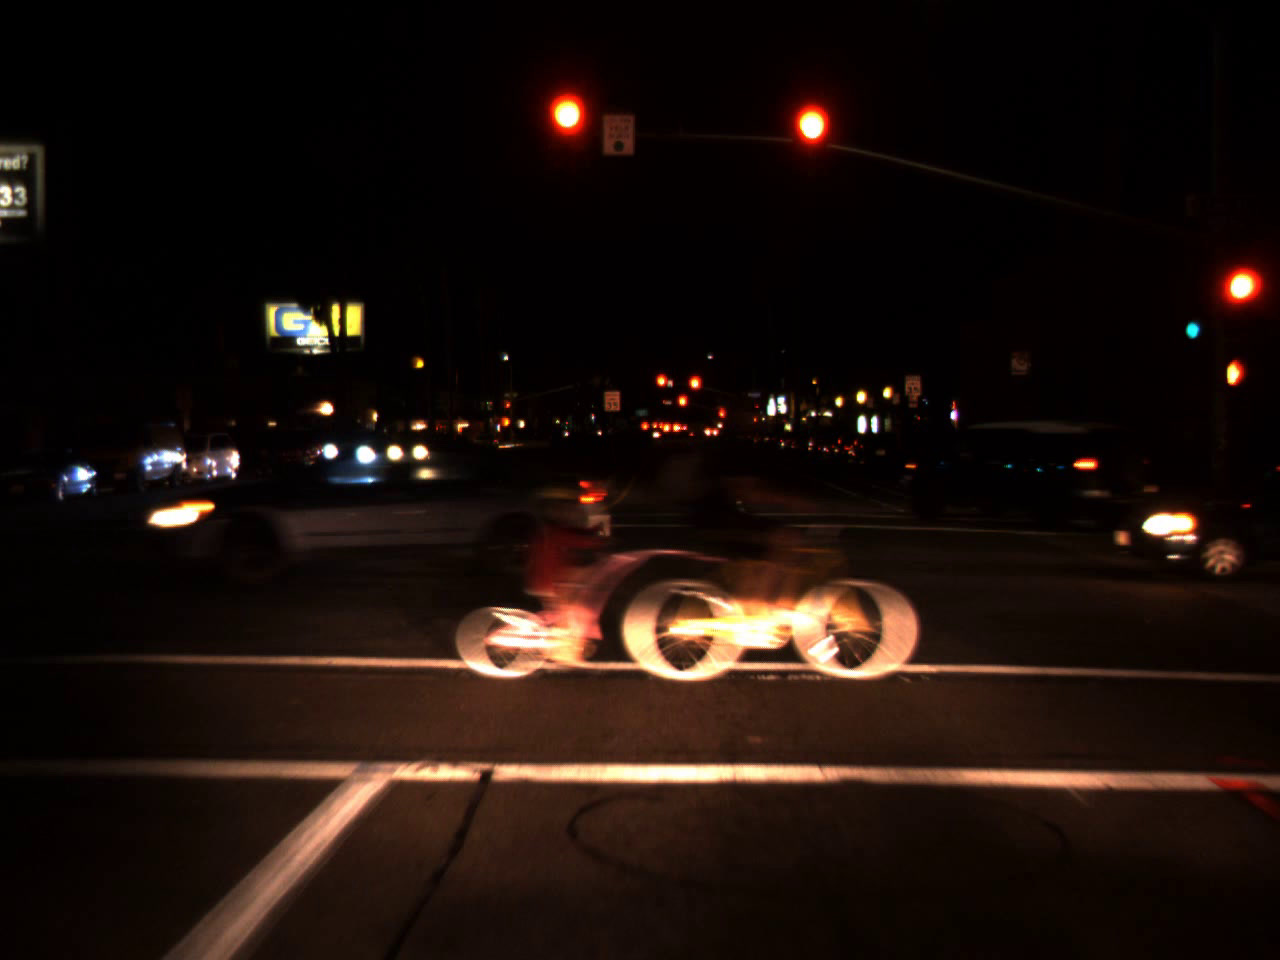stop: (1217, 267, 1260, 334), (791, 105, 828, 180), (550, 95, 586, 170), (687, 373, 702, 405), (655, 372, 670, 401), (715, 404, 728, 431), (677, 393, 689, 420), (501, 397, 511, 418)
